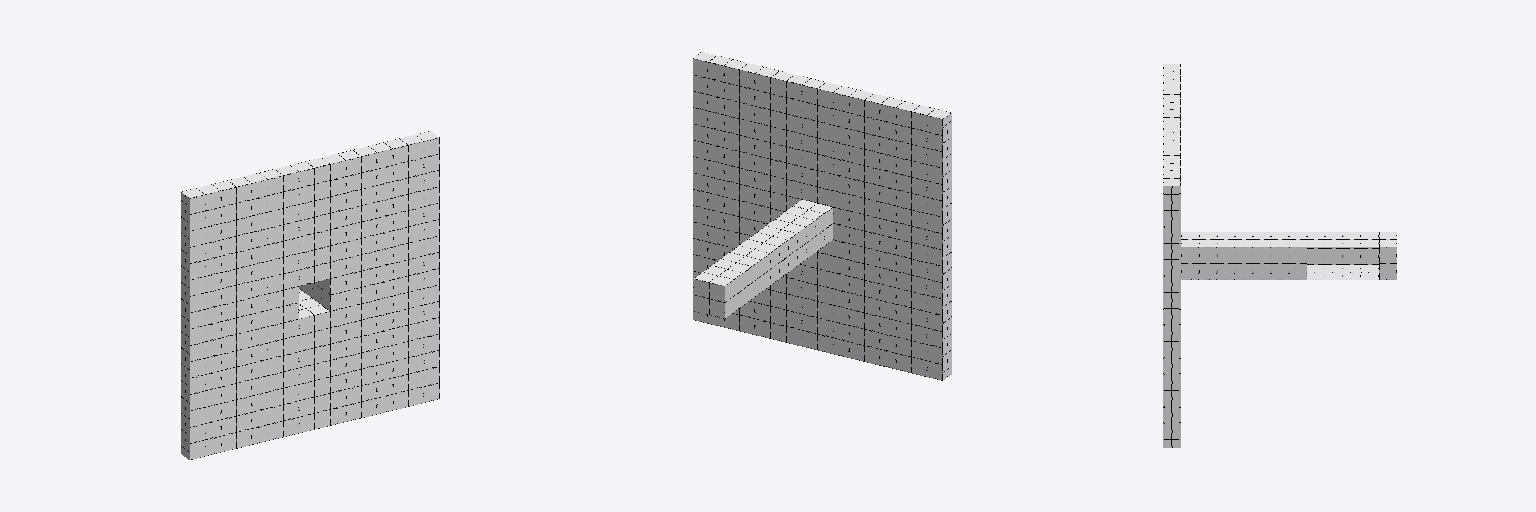
The picture shows the model from 3 angles: view 1: azimuth 30°, elevation 25°; view 2: azimuth 150°, elevation 25°; view 3: azimuth 270°, elevation 25°; orthographic projection.
Parts seen in each view (by area): view 1: ElevatorWalls; view 2: ElevatorWalls; view 3: ElevatorWalls.
Part boxes in pixels (left/top/right/bottom): ElevatorWalls: left=181, top=131, right=439, bottom=459; ElevatorWalls: left=693, top=52, right=951, bottom=380; ElevatorWalls: left=1163, top=64, right=1396, bottom=447.
Size of the model in its own units: 16 by 16.01 by 13.
1 materials, 1 textured.